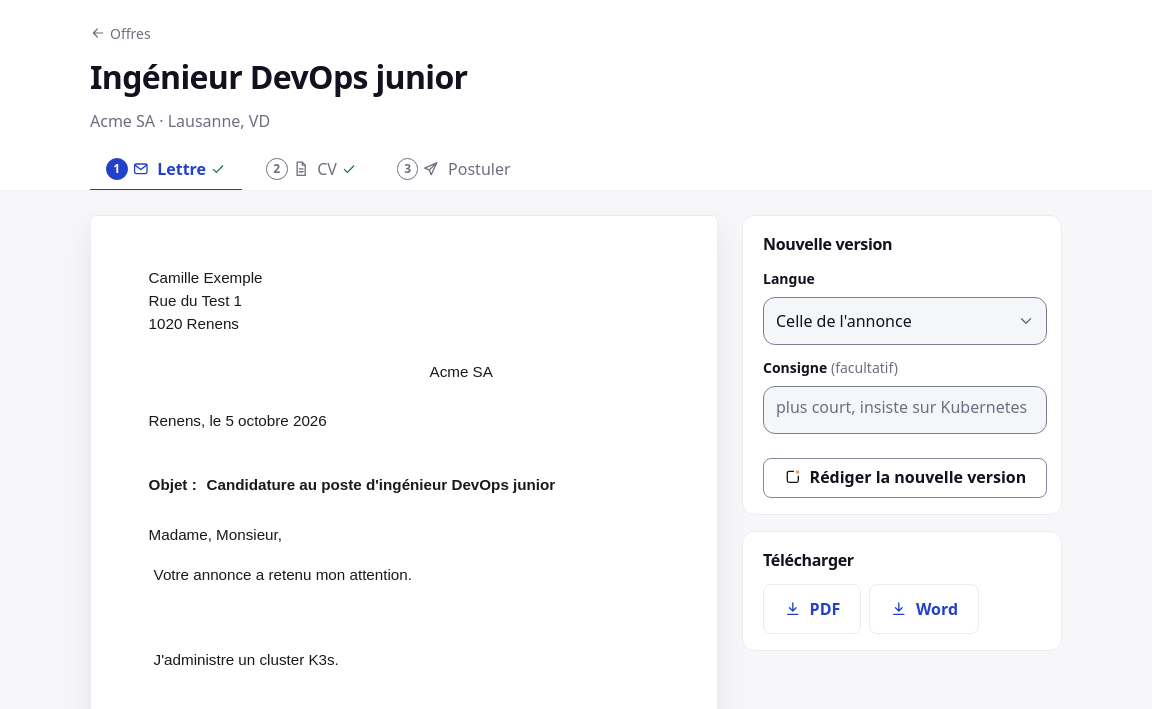
Test: PreparationView › nouvelle version avec consigne : part de la version affichée
In the text box with test id "instruction": [905, 410] box 763,386 -> 1047,434, type "plus court"
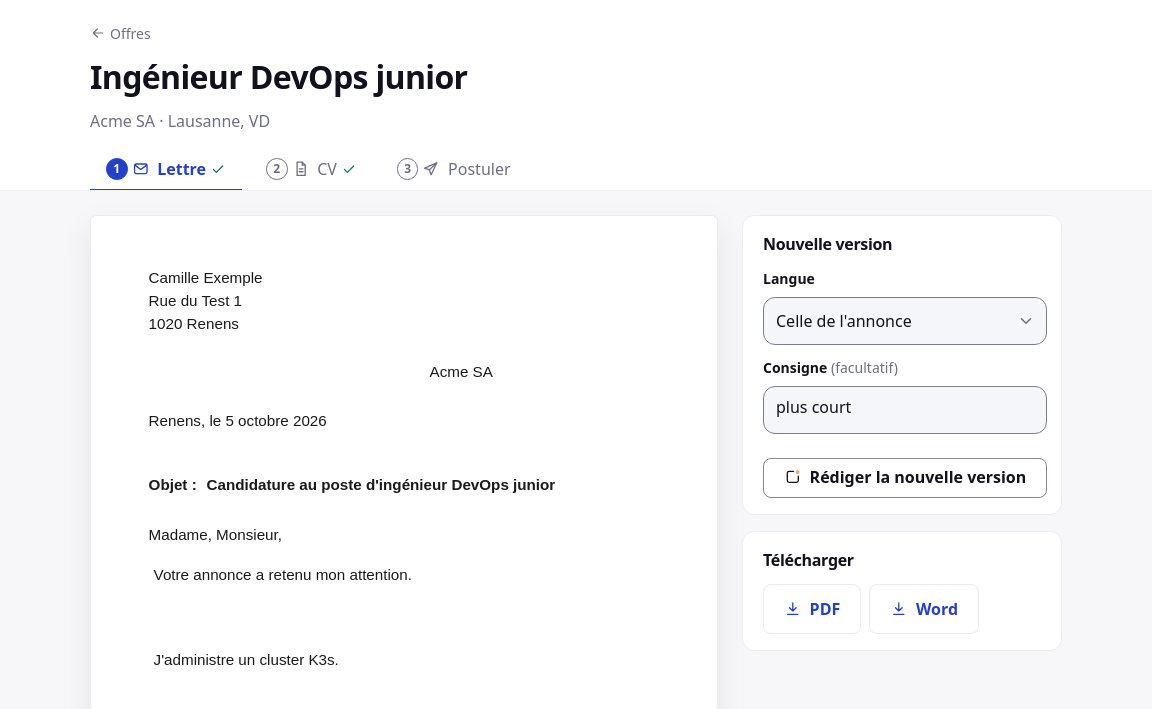
Click the button with test id "write": [905, 478] box 763,458 -> 1047,498
(page scrolled)
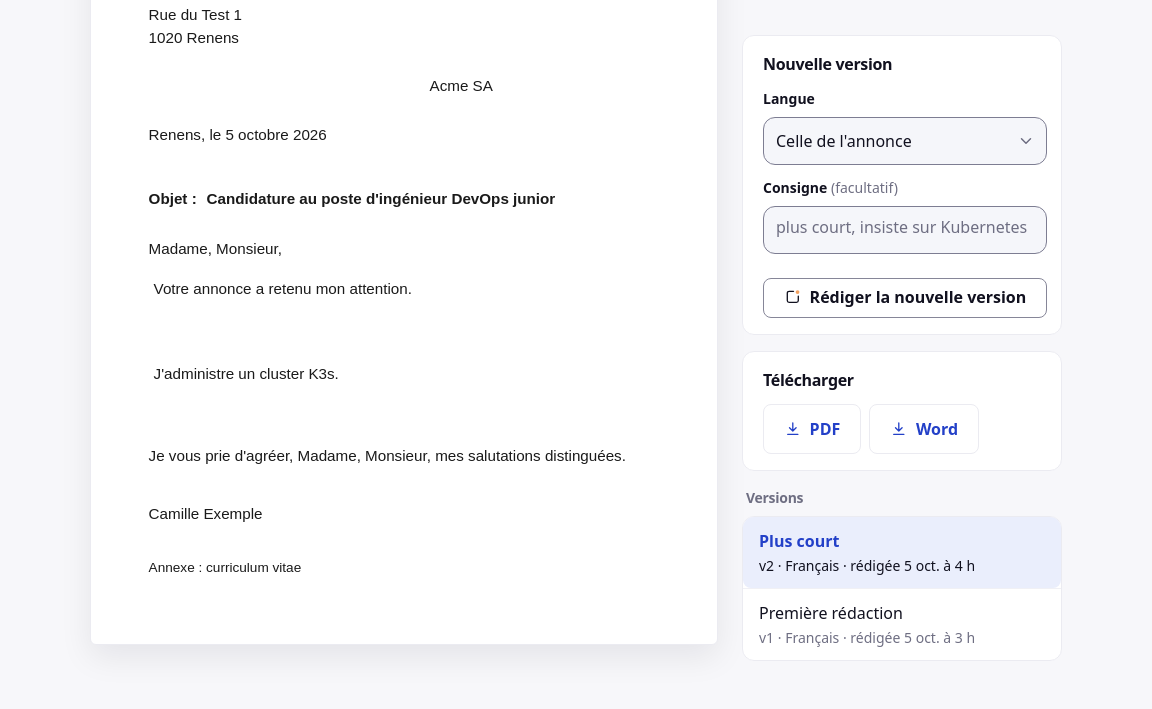
Result: the text with class "grouped-row-title" reads "Plus court" at 759,530 -> 839,552
